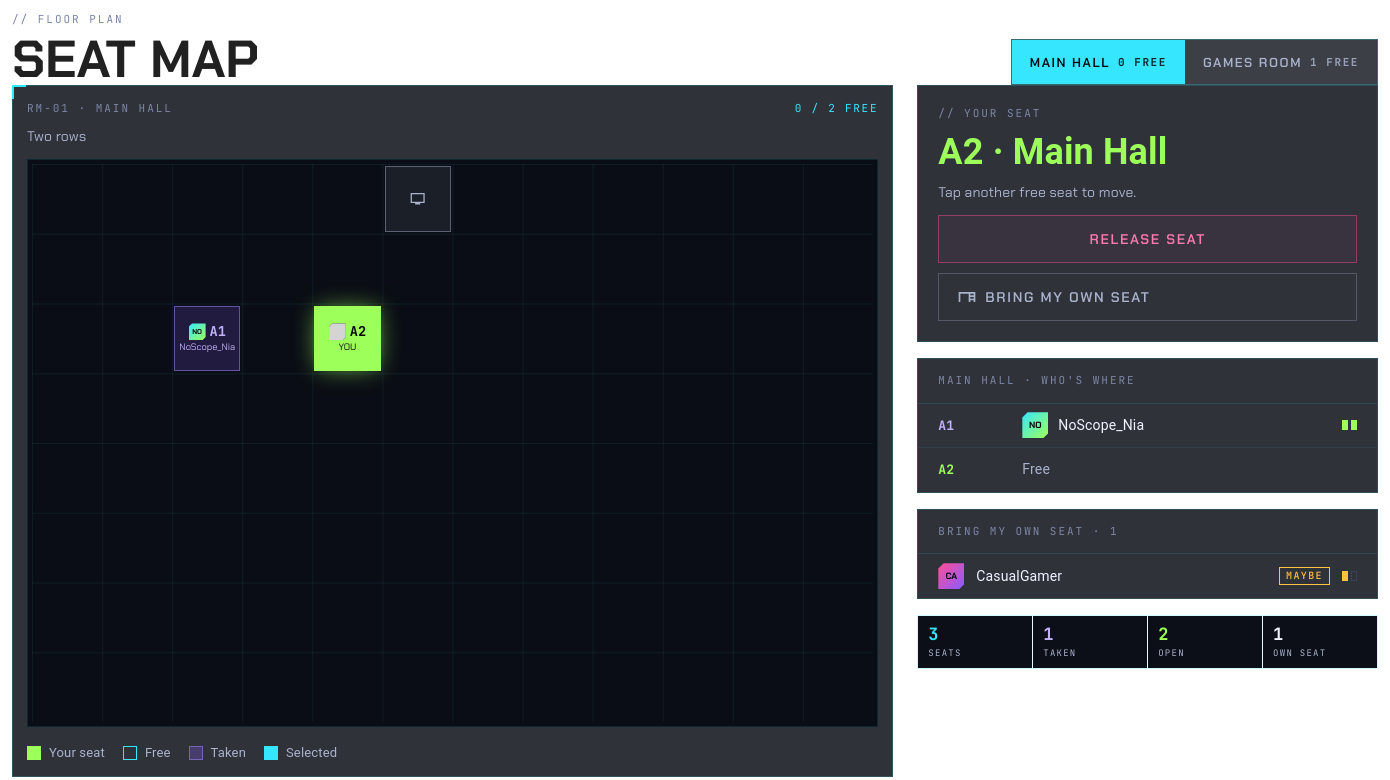
Test: EventSeatMap › swaps with PUT and releases with DELETE
The width and height of the screenshot is (1390, 780).
Check: the button with aria-label "A2, your seat" is shown, box [314,306,380,371]
Step 1. Click the tab "Games Room 1 FREE" → (1281, 62), box [1185,40,1377,84]
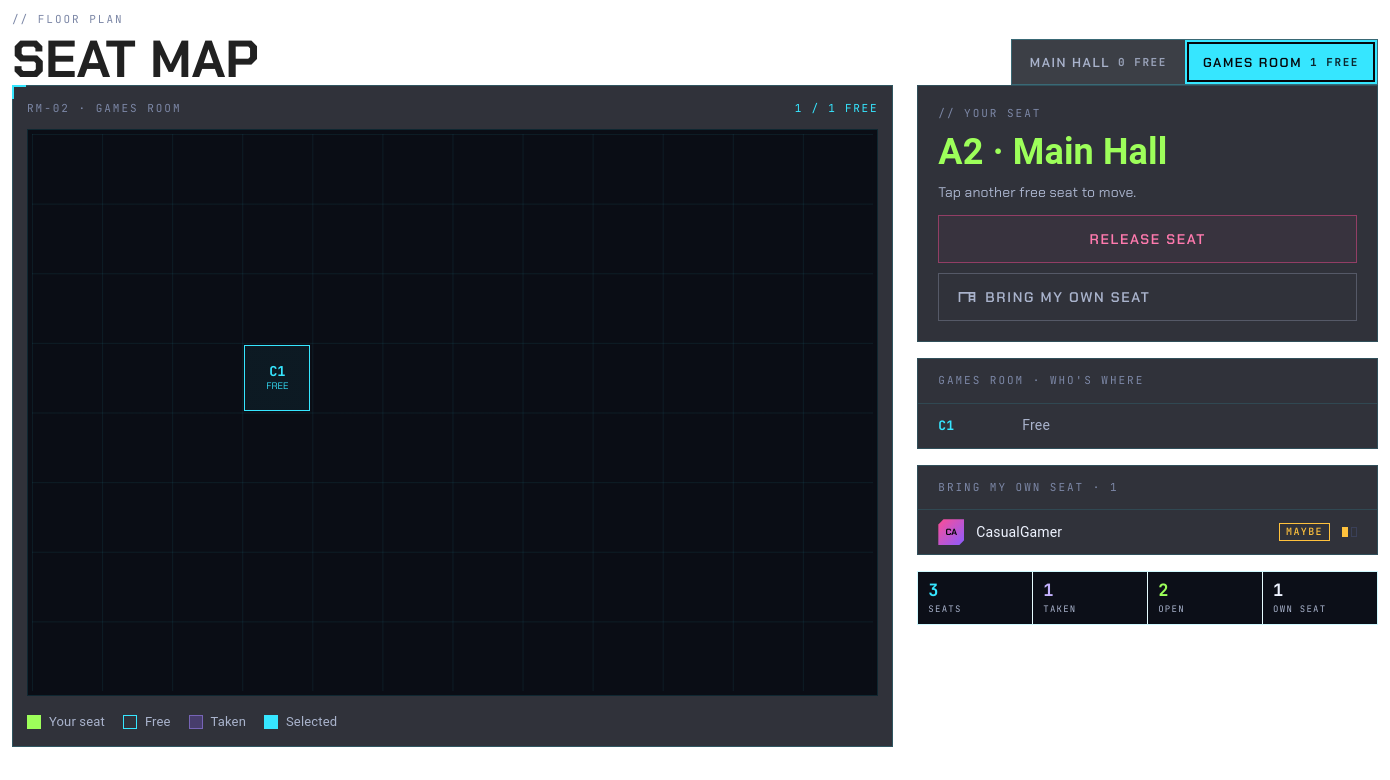
Step 2. Click the button with aria-label "C1, free" → (277, 378), box [244,345,310,411]
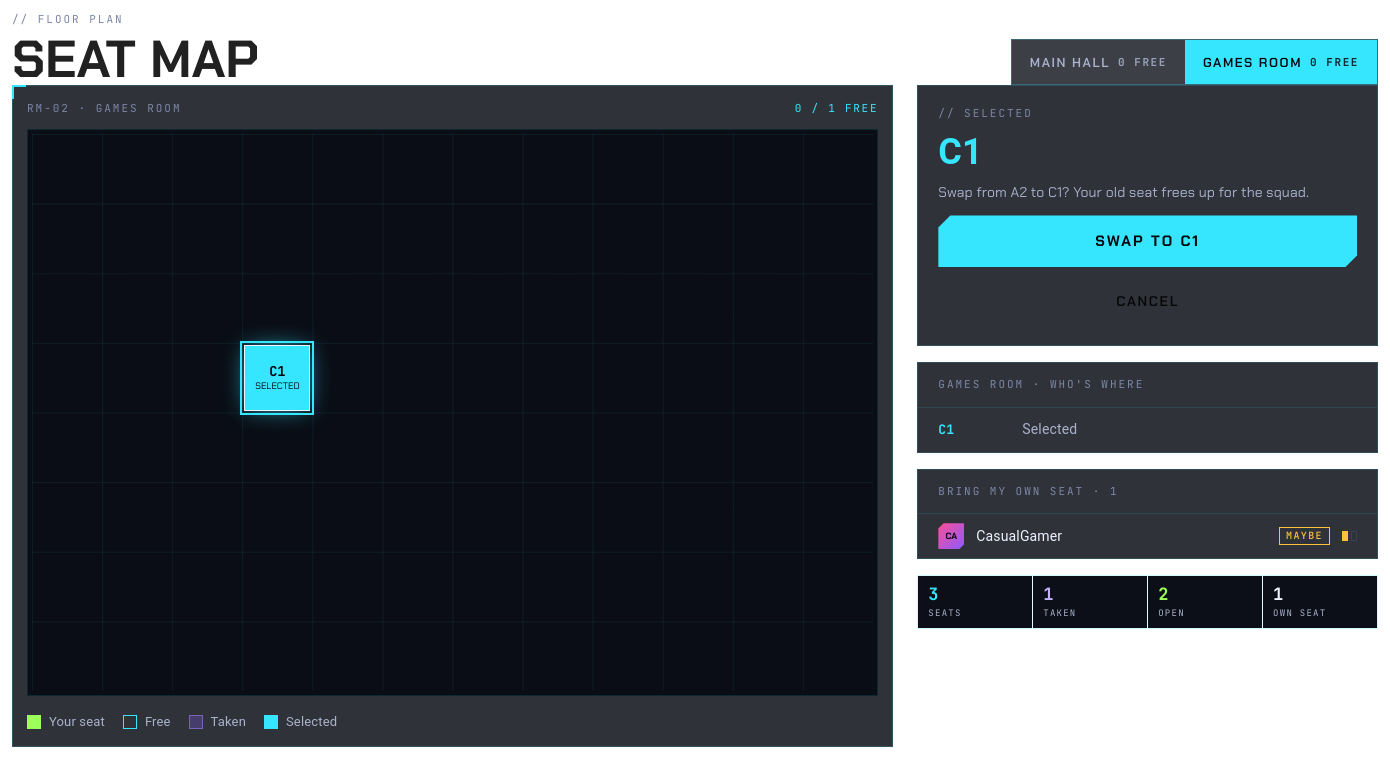
Check: the text "Swap from A2 to C1? Your old seat frees up for the squad." is shown, box [938,182,1357,204]
Step 3. Click the button "Swap to C1" → (1148, 242), box [938,216,1357,268]
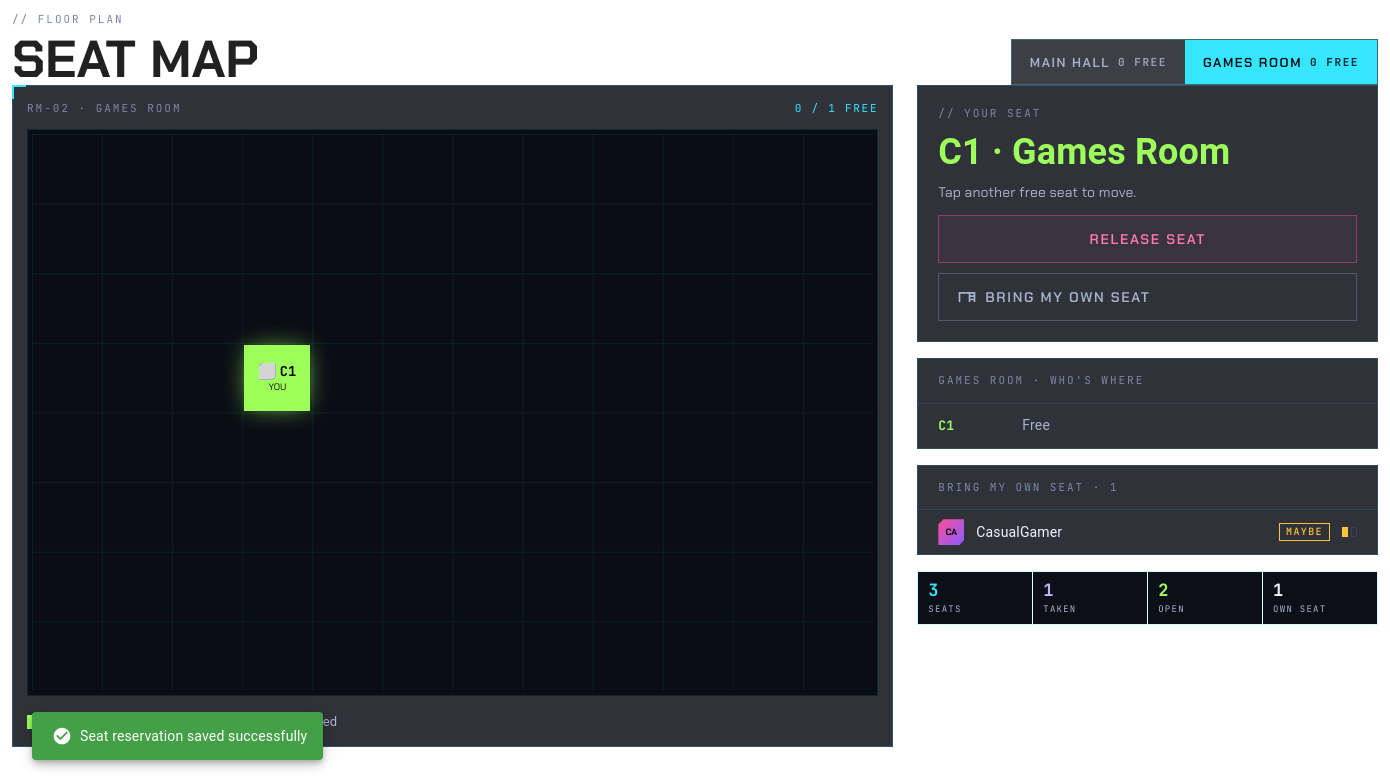
Check: the text "C1 · Games Room" is shown, box [938,131,1230,173]
Step 4. Click the button "Release seat" → (1148, 240), box [938,216,1357,264]
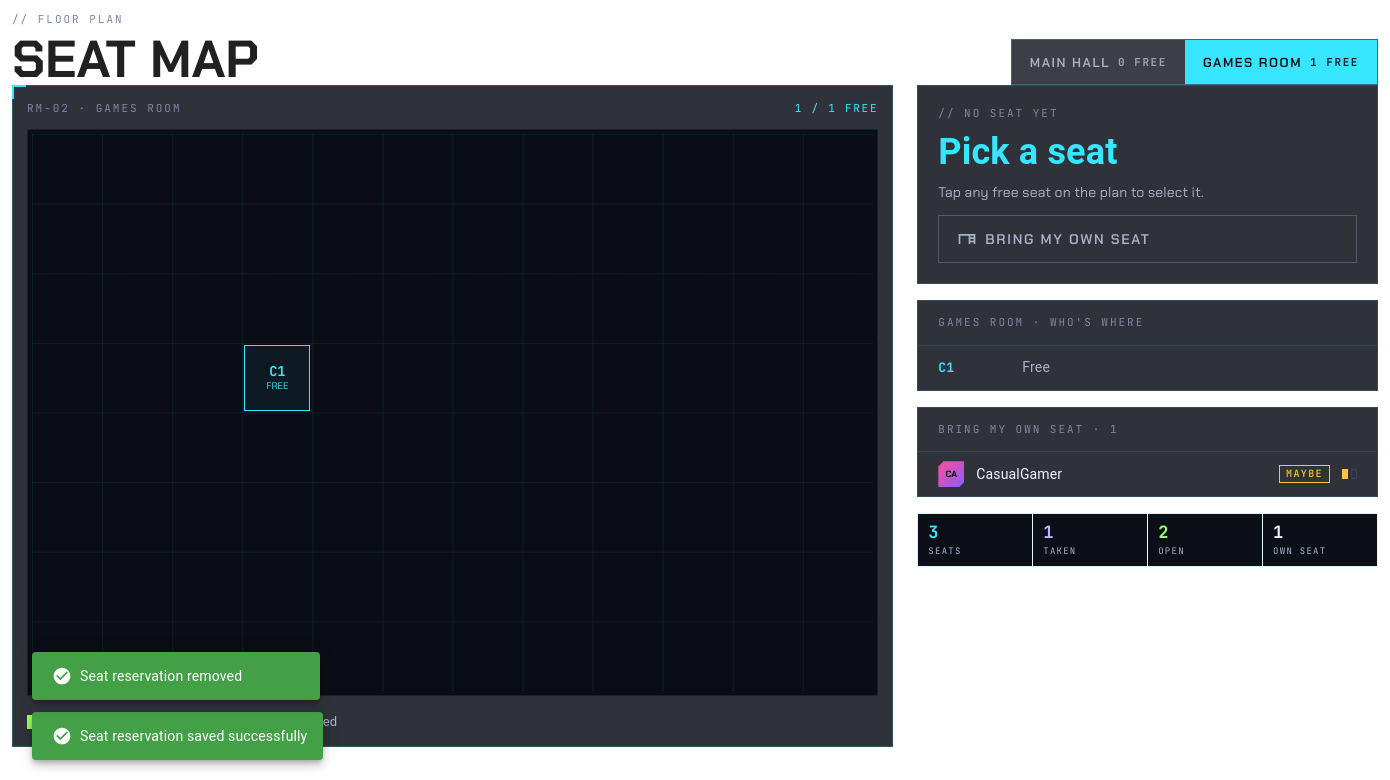
Check: the text "Pick a seat" is shown, box [938,131,1117,173]
